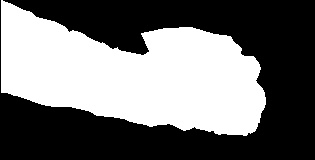Fire: (99, 44, 262, 134)
